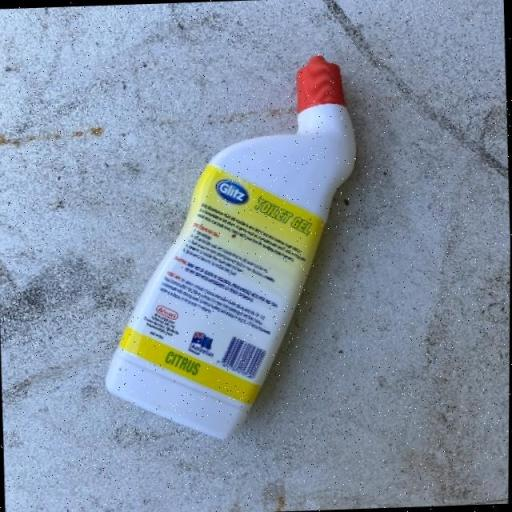plastic: (92, 52, 367, 443)
